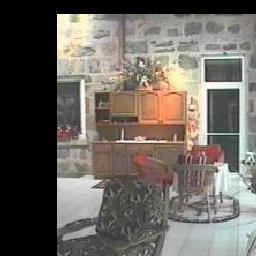Matera: (242, 168, 256, 256)
